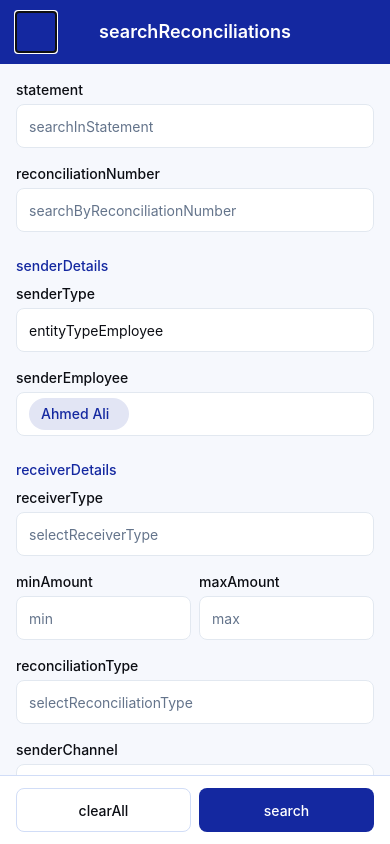
Test: SearchModal employee autocomplete › clears selected sender employee when clear all is pressed
Expected: the text "Ahmed Ali" is shown, [41, 404, 109, 424]
Note: Press "Clear All"
Click the button "clearAll". click: coordinates (104, 810)
box: [16, 788, 191, 832]
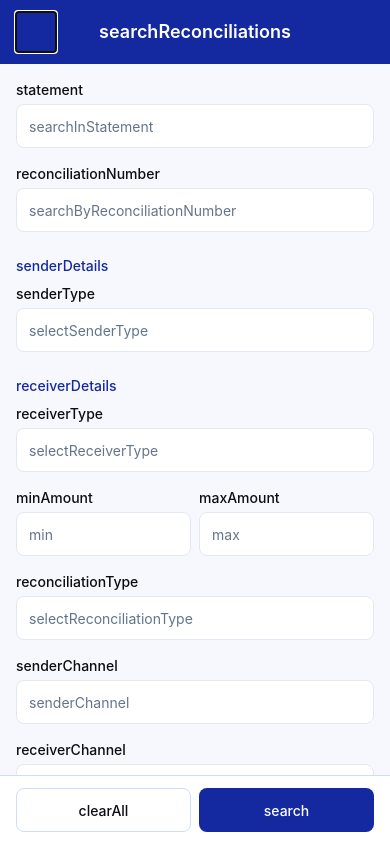
Expected: the text "Ahmed Ali" is gone
